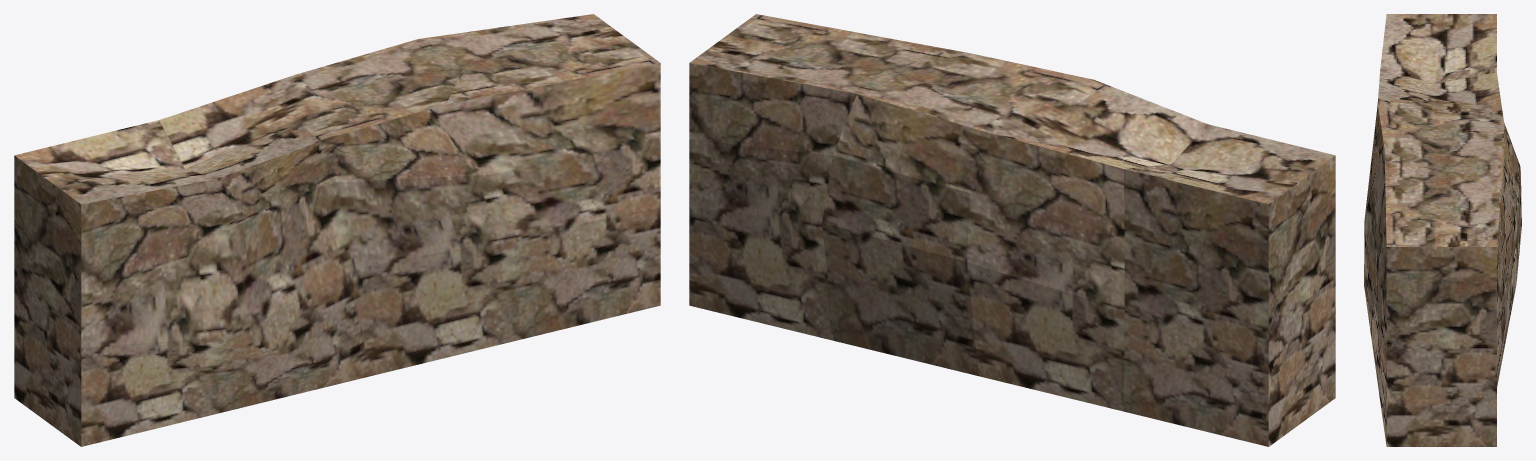
File: Urban_DrystoneWall_Model.fbx
The picture shows the model from 3 angles, left to right: view 1: azimuth 30°, elevation 25°; view 2: azimuth 150°, elevation 25°; view 3: azimuth 270°, elevation 25°; orthographic projection. The views are drawn at different scales.
Parts seen in each view (by area): view 1: Urban_DrystoneWall_Mesh; view 2: Urban_DrystoneWall_Mesh; view 3: Urban_DrystoneWall_Mesh.
Boxes of the visible parts, x1,y1,x2,y2 form: Urban_DrystoneWall_Mesh: [14, 14, 660, 446]; Urban_DrystoneWall_Mesh: [689, 14, 1335, 446]; Urban_DrystoneWall_Mesh: [1364, 14, 1521, 446].
Bounding box in the file's own units: 2 × 0.8459 × 0.5729.
